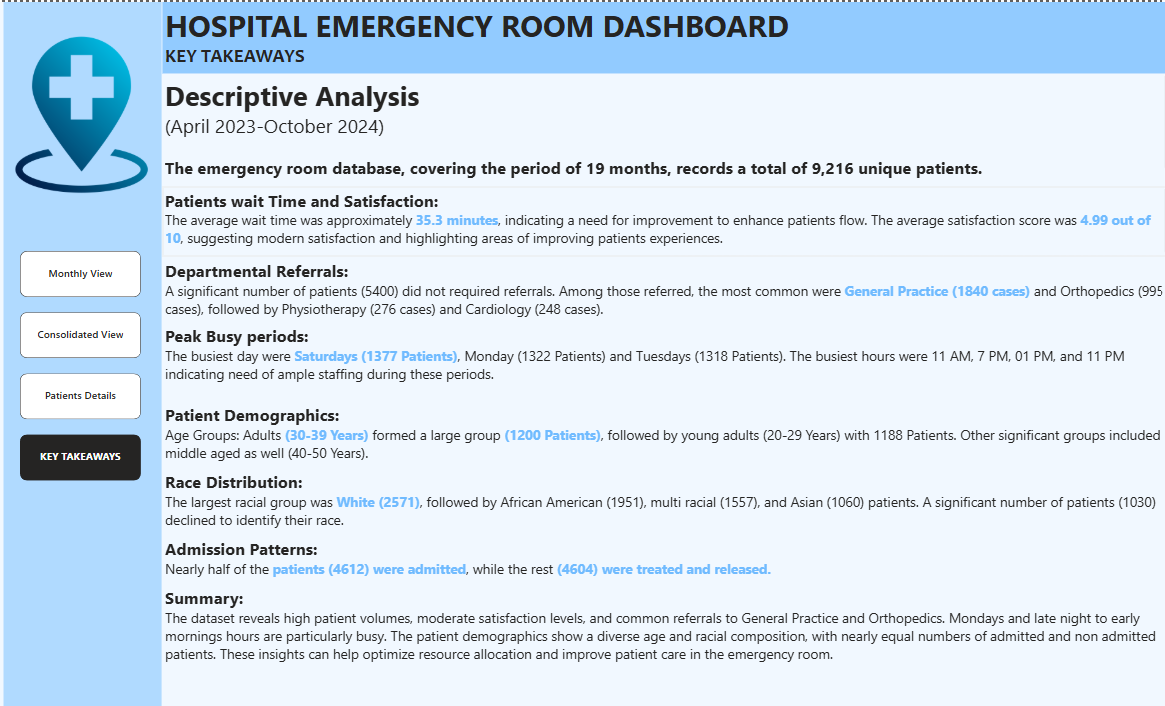

What the dashboard file says about the page in this screenshot:
{"tool":"powerbi","page":{"name":"KEY TAKEAWAYS","canvas":[2300,1400],"ordinal":3},"visuals":[{"type":"textbox","box":[320,0,1253.1,138.5],"z":0,"group":"g1"},{"type":"shape","box":[10.2,0,310,1399],"z":0},{"type":"shape","box":[319.2,0,1981,140],"z":1000},{"type":"textbox","box":[320,77.5,312.5,60],"z":1000,"group":"g1"},{"type":"group","id":"g1","title":"Group 1","box":[320,0,1253.1,138.5],"z":2000},{"type":"image","box":[2.5,0,317.5,442.5],"z":3000},{"type":"textbox","box":[320,140,1980,222.5],"z":4000},{"type":"textbox","box":[320,362.5,1980,137.5],"z":5000},{"type":"textbox","box":[320,500,1980,127.5],"z":6000},{"type":"textbox","box":[320,627.5,1980,155],"z":7000},{"type":"textbox","box":[320,782.5,1980,542.5],"z":8000},{"type":"pageNavigator","box":[40,487.5,237.5,452.5],"z":9000}]}

Visuals, with their boxes in screenshot pixels (x1, y1, x2, y2), scaled from the page's 2300x1400 canvas onto the 1165x706 screenshot:
textbox: <bbox>162, 0, 797, 70</bbox>
shape: <bbox>5, 0, 162, 705</bbox>
shape: <bbox>162, 0, 1164, 71</bbox>
textbox: <bbox>162, 39, 320, 69</bbox>
"Group 1" group: <bbox>162, 0, 797, 70</bbox>
image: <bbox>1, 0, 162, 223</bbox>
textbox: <bbox>162, 71, 1164, 183</bbox>
textbox: <bbox>162, 183, 1164, 252</bbox>
textbox: <bbox>162, 252, 1164, 316</bbox>
textbox: <bbox>162, 316, 1164, 395</bbox>
textbox: <bbox>162, 395, 1164, 668</bbox>
pageNavigator: <bbox>20, 246, 141, 474</bbox>
